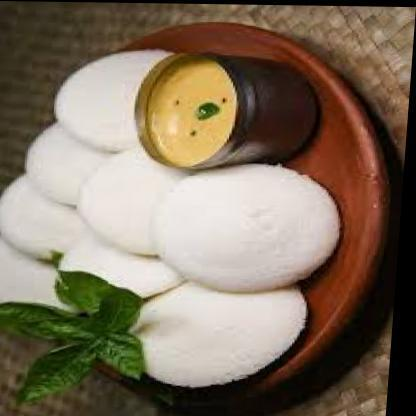idli: (151, 161, 347, 293), (128, 278, 312, 386), (79, 145, 203, 254), (54, 48, 176, 152), (61, 235, 193, 307), (0, 175, 100, 262), (0, 234, 96, 318), (26, 121, 120, 205)
